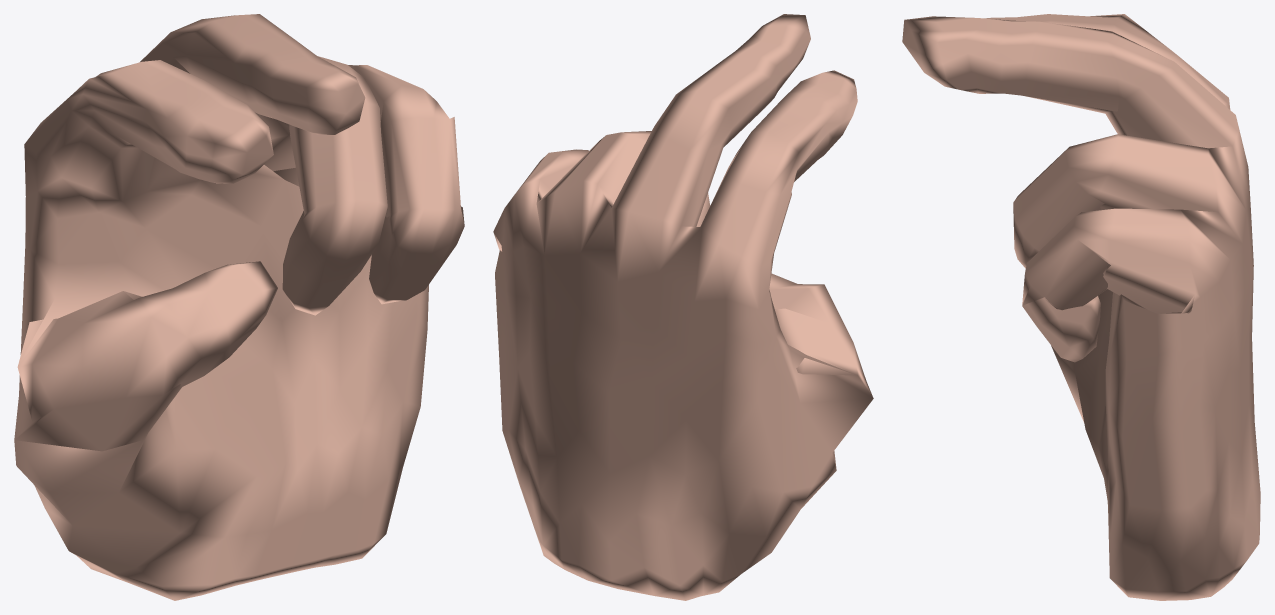
File: CURVADO_U.obj
The picture shows the model from 3 angles, left to right: view 1: azimuth 30°, elevation 25°; view 2: azimuth 150°, elevation 25°; view 3: azimuth 270°, elevation 25°; orthographic projection. The views are drawn at different scales.
Visible parts, largest first — view 1: mao_dir polySurface1; view 2: mao_dir polySurface1; view 3: mao_dir polySurface1.
Part boxes in pixels (left/top/right/bottom): mao_dir polySurface1: left=14, top=14, right=464, bottom=600; mao_dir polySurface1: left=493, top=14, right=873, bottom=600; mao_dir polySurface1: left=902, top=14, right=1260, bottom=600.
Size of the model in its own units: 135 by 179 by 113.
